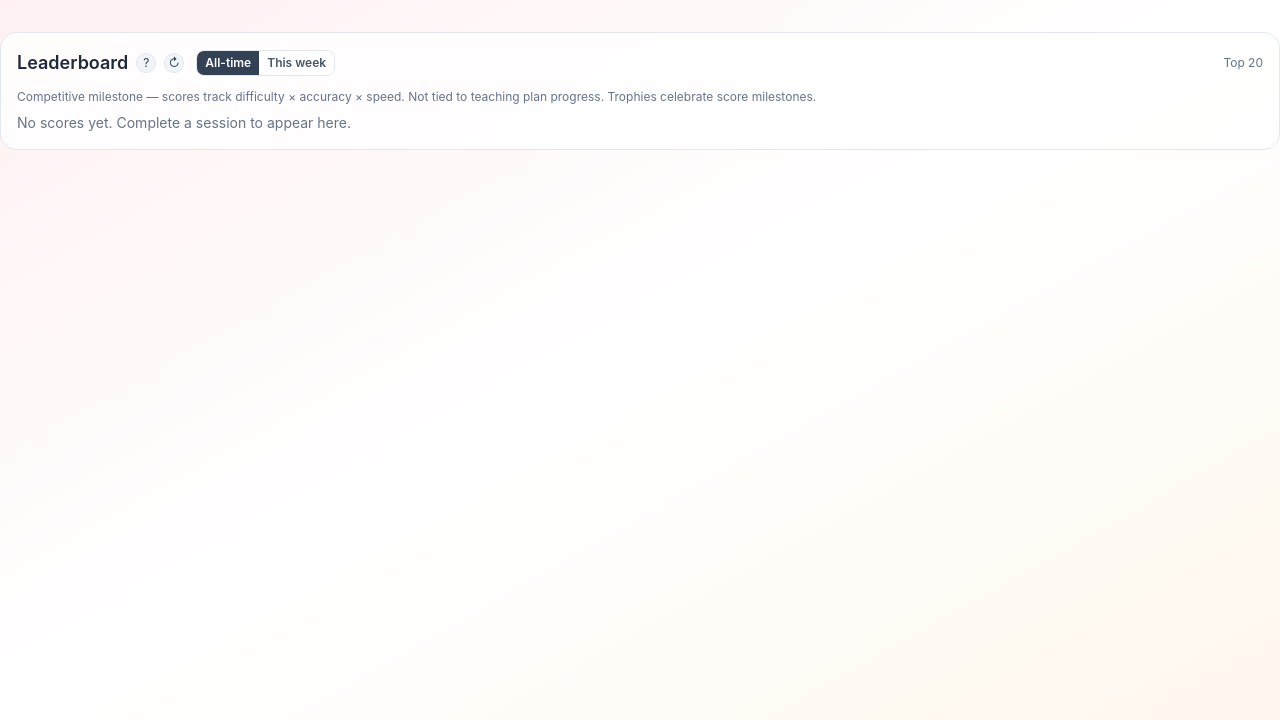
Scenario: Leaderboard › should close help when close button is clicked
The image size is (1280, 720).
// Click help button to open help
Step 1. Click the button "?" → (146, 63), box [136, 53, 156, 73]
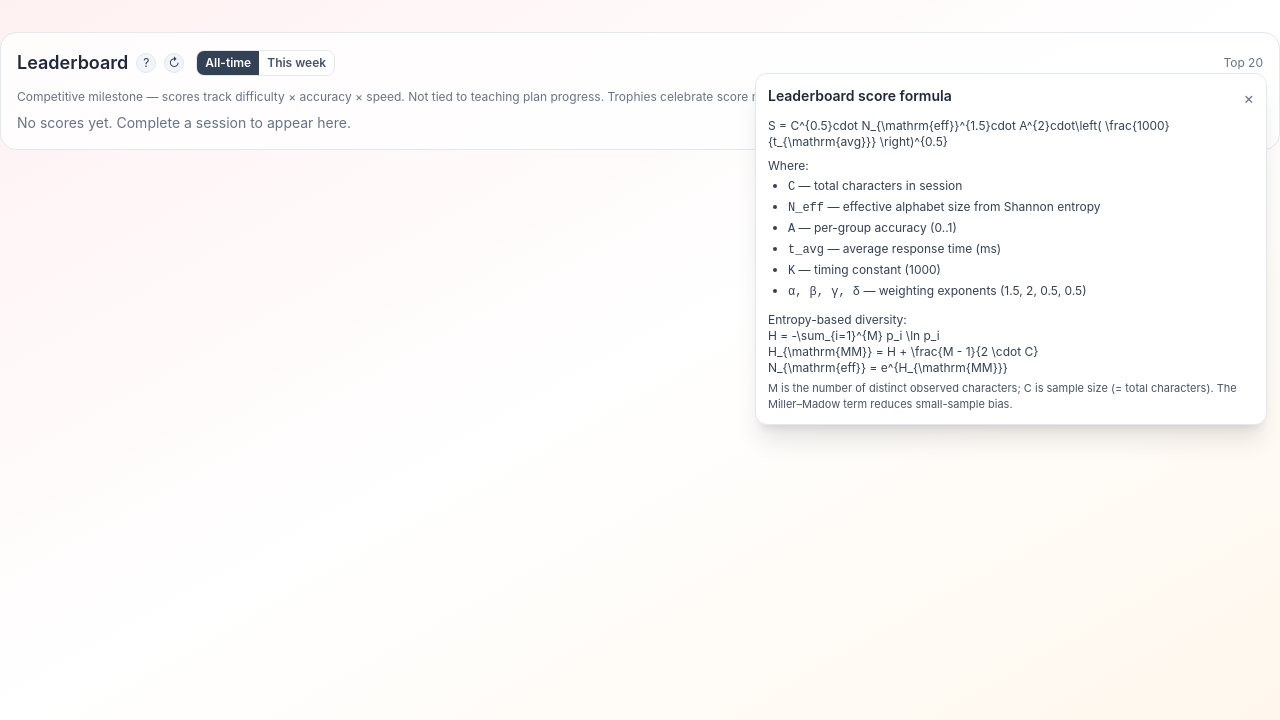
Step 2. Click the button "×" → (1249, 98), box [1243, 86, 1254, 110]
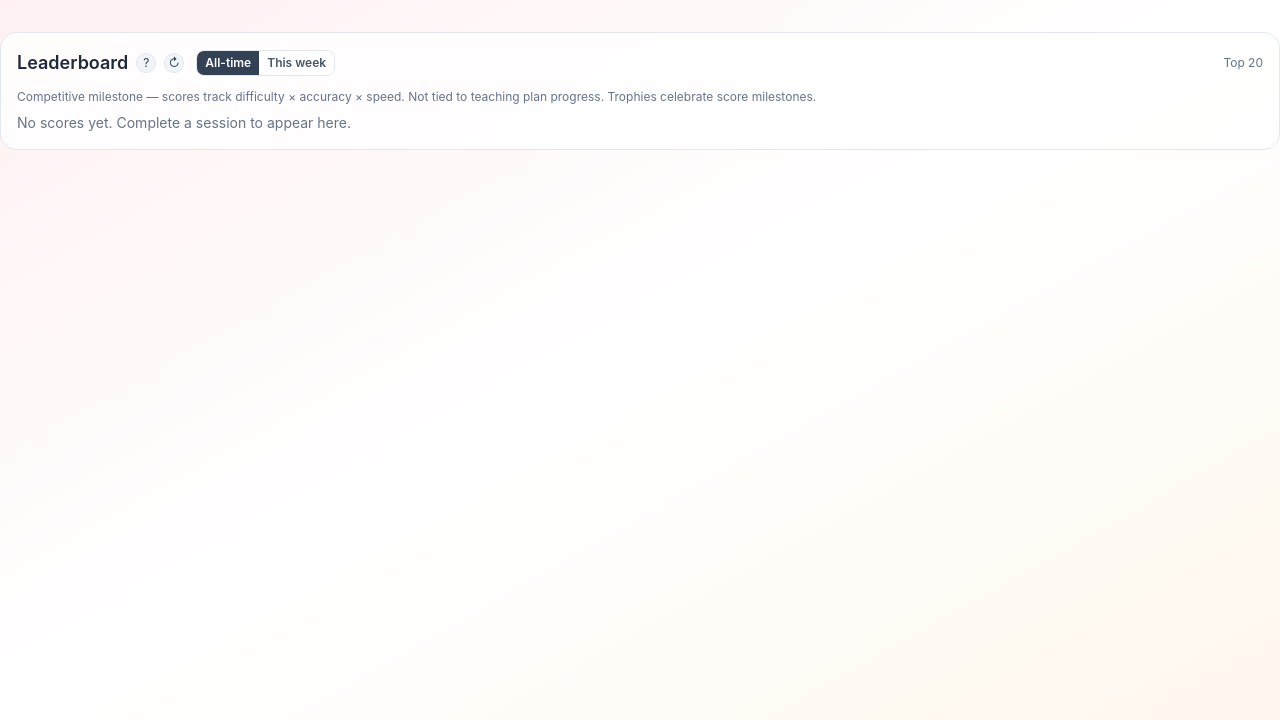
Result: the text "Leaderboard score formula" is gone
